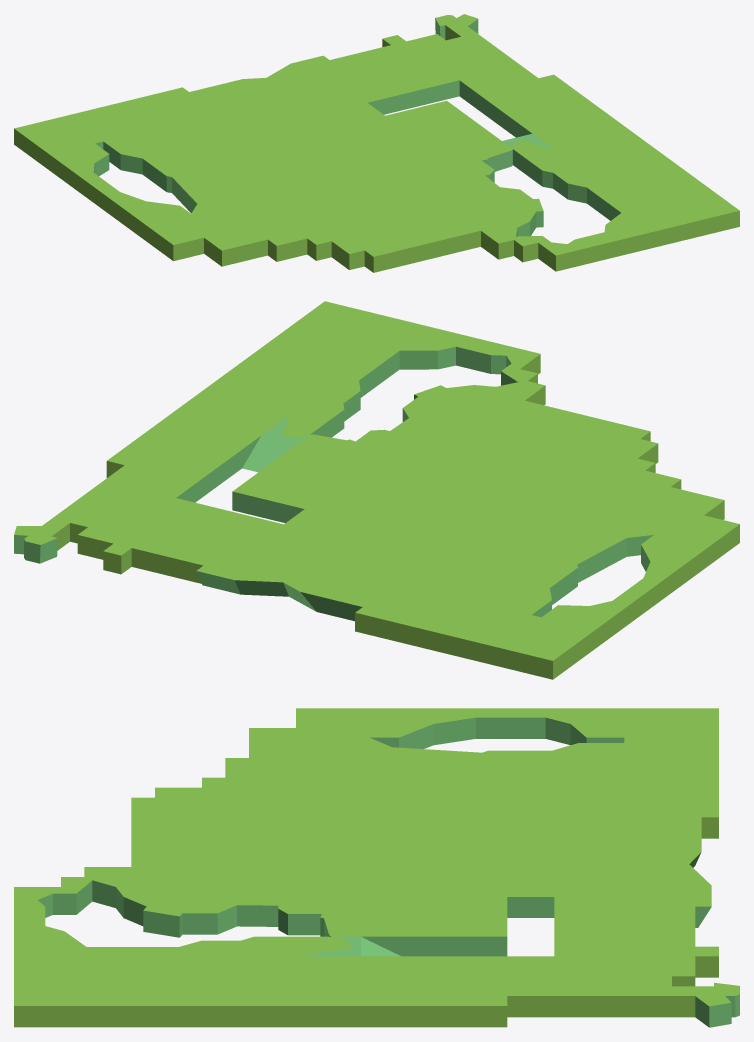
Rendered from x_zem_0_43_1_rmstrd_3.fbx.
3 views of the same model, one above another, from view 1: azimuth 30°, elevation 25°; view 2: azimuth 150°, elevation 25°; view 3: azimuth 270°, elevation 25° (orthographic). The views are drawn at different scales.
Parts seen in each view (by area): view 1: x_zem_0_43_1_rmstrd_3_1; view 2: x_zem_0_43_1_rmstrd_3_1; view 3: x_zem_0_43_1_rmstrd_3_1.
Boxes of the visible parts, x1=… form: x_zem_0_43_1_rmstrd_3_1: x1=14, y1=14, x2=739, y2=272; x_zem_0_43_1_rmstrd_3_1: x1=14, y1=301, x2=739, y2=679; x_zem_0_43_1_rmstrd_3_1: x1=14, y1=708, x2=739, y2=1027.
Size of the model in its own units: 30.04 by 1 by 30.9.
